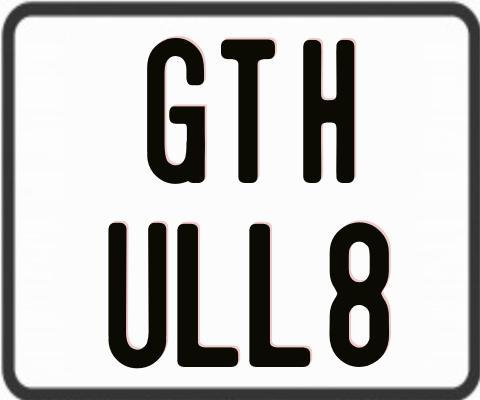8: (326, 220, 386, 370)
G: (144, 37, 205, 187)
H: (300, 38, 354, 181)
L: (174, 223, 241, 371), (248, 224, 314, 368)
T: (220, 38, 278, 183)
U: (108, 220, 172, 369)
